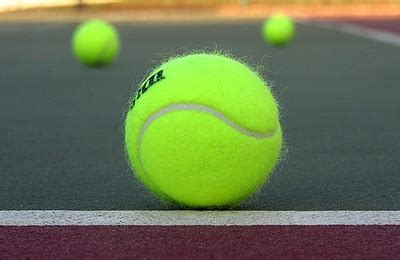tennis_ball: (124, 51, 283, 210), (71, 19, 120, 66), (261, 13, 295, 46)
